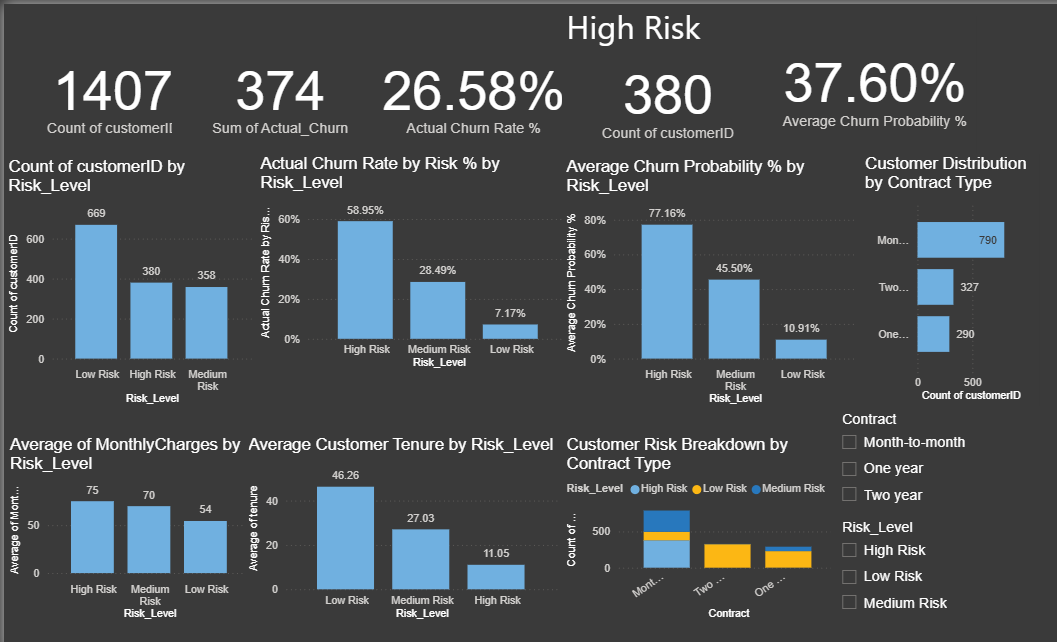

Layout of this report page (visuals, bound fields, positions):
{"tool":"powerbi","page":{"name":"Page 1","canvas":[1280,720],"ordinal":0},"visuals":[{"type":"card","fields":{"Values":["Count(customer_churn_risk_report.customerID)"]},"box":[25,30,191.7,140],"z":0},{"type":"card","fields":{"Values":["Sum(customer_churn_risk_report.Actual_Churn)"]},"box":[186.7,30,240,140],"z":1000},{"type":"card","fields":{"Values":["customer_churn_risk_report.Actual Churn Rate %"]},"box":[388.3,30,266.7,140],"z":2000},{"type":"card","title":"High Risk","fields":{"Values":["Count(customer_churn_risk_report.customerID)"]},"box":[620,0,235,170],"z":3000},{"type":"card","fields":{"Values":["customer_churn_risk_report.Average Churn Probability %"]},"box":[855,13.3,225,156.7],"z":4000},{"type":"clusteredColumnChart","fields":{"Category":["customer_churn_risk_report.Risk_Level"],"Y":["CountNonNull(customer_churn_risk_report.customerID)"]},"box":[0,170,280,280],"z":5000},{"type":"clusteredColumnChart","fields":{"Category":["customer_churn_risk_report.Risk_Level"],"Y":["customer_churn_risk_report.Actual Churn Rate by Risk %"]},"box":[280,166.7,353.3,243.3],"z":6000},{"type":"clusteredColumnChart","fields":{"Category":["customer_churn_risk_report.Risk_Level"],"Y":["customer_churn_risk_report.Average Churn Probability %"]},"box":[620,170,331.7,280],"z":7000},{"type":"clusteredBarChart","title":"Customer Distribution by Contract Type","fields":{"Category":["customer_churn_risk_report.Contract"],"Y":["Count(customer_churn_risk_report.customerID)"]},"box":[951.7,166.7,198.3,280],"z":8000},{"type":"clusteredColumnChart","fields":{"Category":["customer_churn_risk_report.Risk_Level"],"Y":["Avg(customer_churn_risk_report.MonthlyCharges)"]},"box":[1.7,478.3,278.3,210],"z":9000},{"type":"clusteredColumnChart","title":"Average Customer Tenure by Risk_Level","fields":{"Category":["customer_churn_risk_report.Risk_Level"],"Y":["Avg(customer_churn_risk_report.tenure)"]},"box":[266.7,478.3,353.3,210],"z":10000},{"type":"columnChart","title":"Customer Risk Breakdown by Contract Type","fields":{"Category":["customer_churn_risk_report.Contract"],"Y":["CountNonNull(customer_churn_risk_report.customerID)"],"Series":["customer_churn_risk_report.Risk_Level"]},"box":[620,478.3,311.7,210],"z":11000},{"type":"slicer","fields":{"Values":["customer_churn_risk_report.Contract"]},"box":[918.3,446.7,216.7,153.3],"z":11001},{"type":"slicer","fields":{"Values":["customer_churn_risk_report.Risk_Level"]},"box":[918.3,566.7,190,153.3],"z":11002}]}

Visuals, with their boxes on the page's 1280x720 design canvas (x1, y1, x2, y2). These are canvas units, not pixel positions in the 1057x642 screenshot, which may show the page scaled, cropped or inside an application window:
card - Count(customer_churn_risk_report.customerID): <region>25, 30, 217, 170</region>
card - Sum(customer_churn_risk_report.Actual_Churn): <region>187, 30, 427, 170</region>
card - customer_churn_risk_report.Actual Churn Rate %: <region>388, 30, 655, 170</region>
"High Risk" card: <region>620, 0, 855, 170</region>
card - customer_churn_risk_report.Average Churn Probability %: <region>855, 13, 1080, 170</region>
clusteredColumnChart - customer_churn_risk_report.Risk_Level x CountNonNull(customer_churn_risk_report.customerID): <region>0, 170, 280, 450</region>
clusteredColumnChart - customer_churn_risk_report.Risk_Level x customer_churn_risk_report.Actual Churn Rate by Risk %: <region>280, 167, 633, 410</region>
clusteredColumnChart - customer_churn_risk_report.Risk_Level x customer_churn_risk_report.Average Churn Probability %: <region>620, 170, 952, 450</region>
"Customer Distribution by Contract Type" clusteredBarChart: <region>952, 167, 1150, 447</region>
clusteredColumnChart - customer_churn_risk_report.Risk_Level x Avg(customer_churn_risk_report.MonthlyCharges): <region>2, 478, 280, 688</region>
"Average Customer Tenure by Risk_Level" clusteredColumnChart: <region>267, 478, 620, 688</region>
"Customer Risk Breakdown by Contract Type" columnChart: <region>620, 478, 932, 688</region>
slicer - customer_churn_risk_report.Contract: <region>918, 447, 1135, 600</region>
slicer - customer_churn_risk_report.Risk_Level: <region>918, 567, 1108, 720</region>
